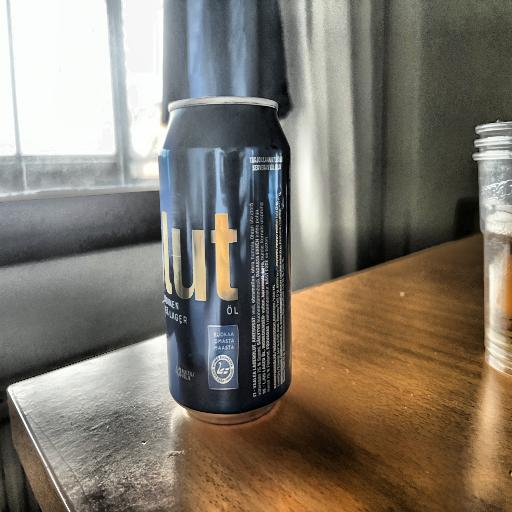koti: (150, 92, 300, 423)
